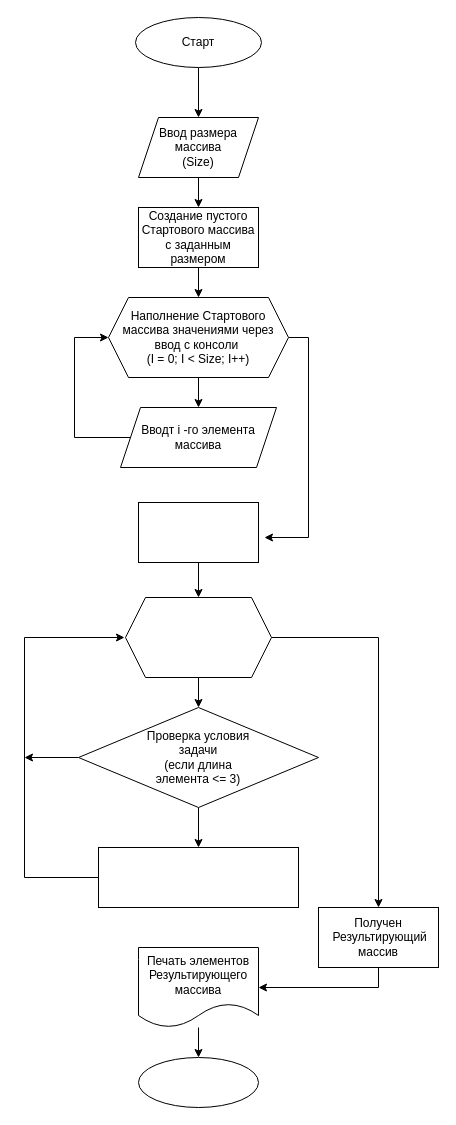
This 456x1125 diagram has some shape labels left out. Each missing label, with the centre of its shape:
Заполнение Результирующего массива значениями (I=0; i < Size; I++: pixel 198 637
Заполнение Результирующего массива элементами, удовлетворяющих условию задачи: pixel 198 877
Получен на вход заполненный Стартовый массив для сортировки: pixel 198 532
финиш: pixel 198 1082
